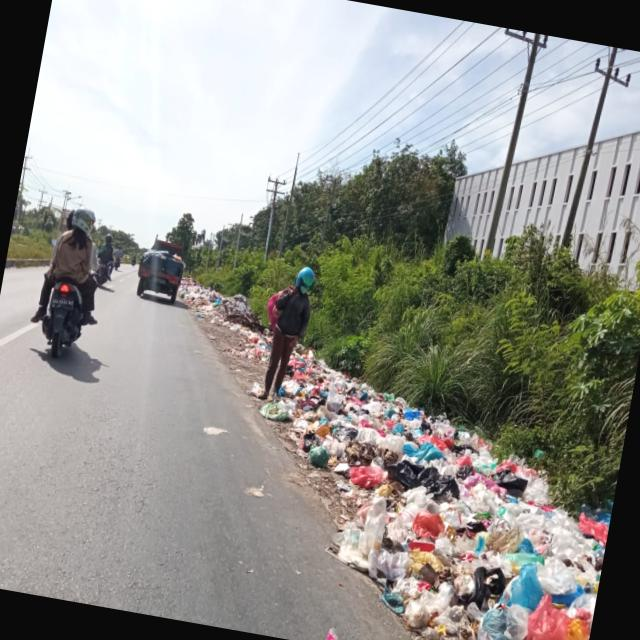garbage: (258, 328, 630, 640)
